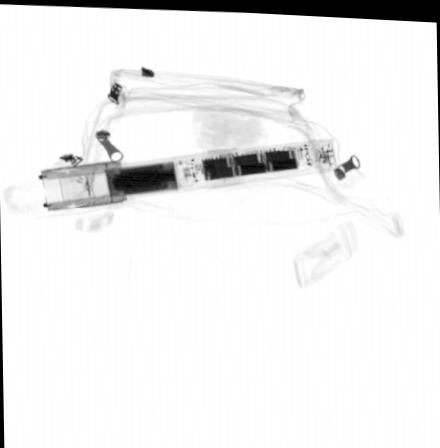Baton: (36, 132, 340, 212)
